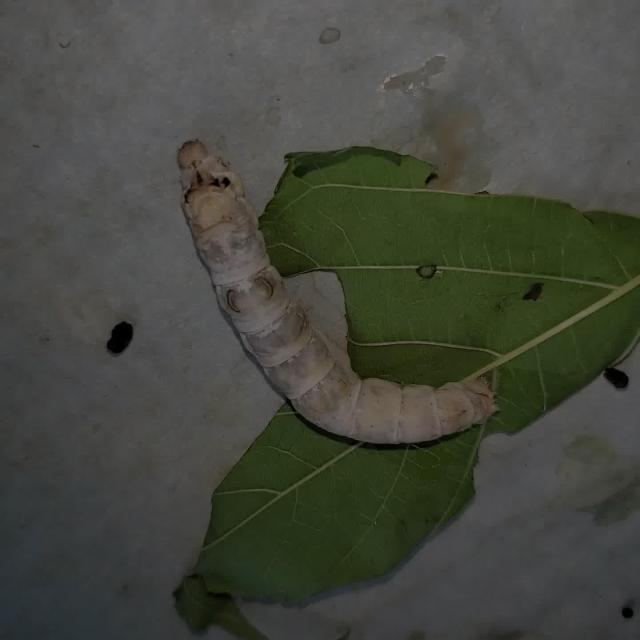Grasserie: (144, 95, 509, 483)
